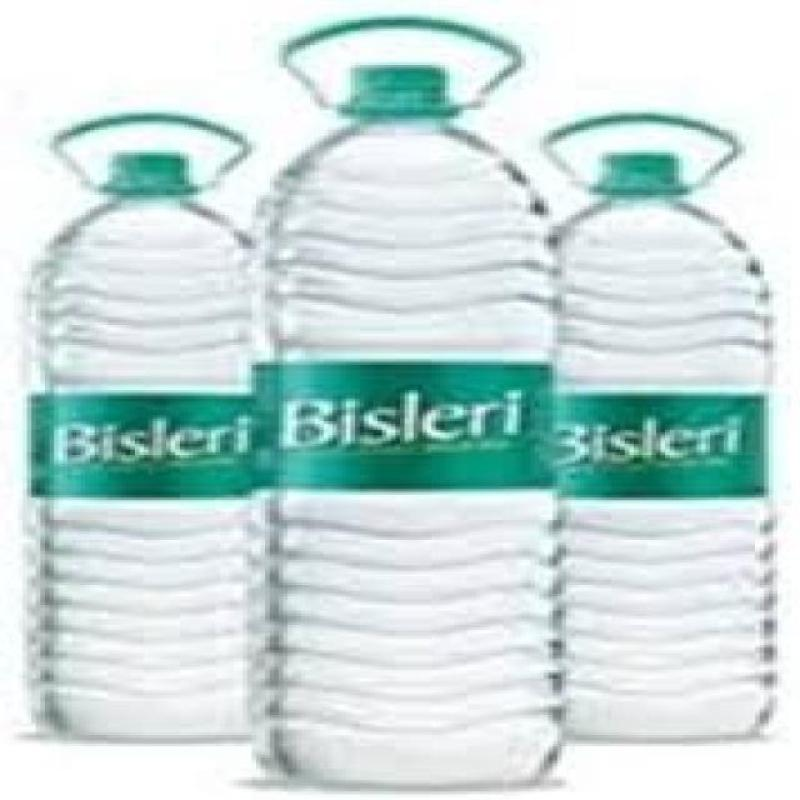botella: (257, 66, 571, 792), (27, 158, 274, 750), (555, 151, 775, 745)
